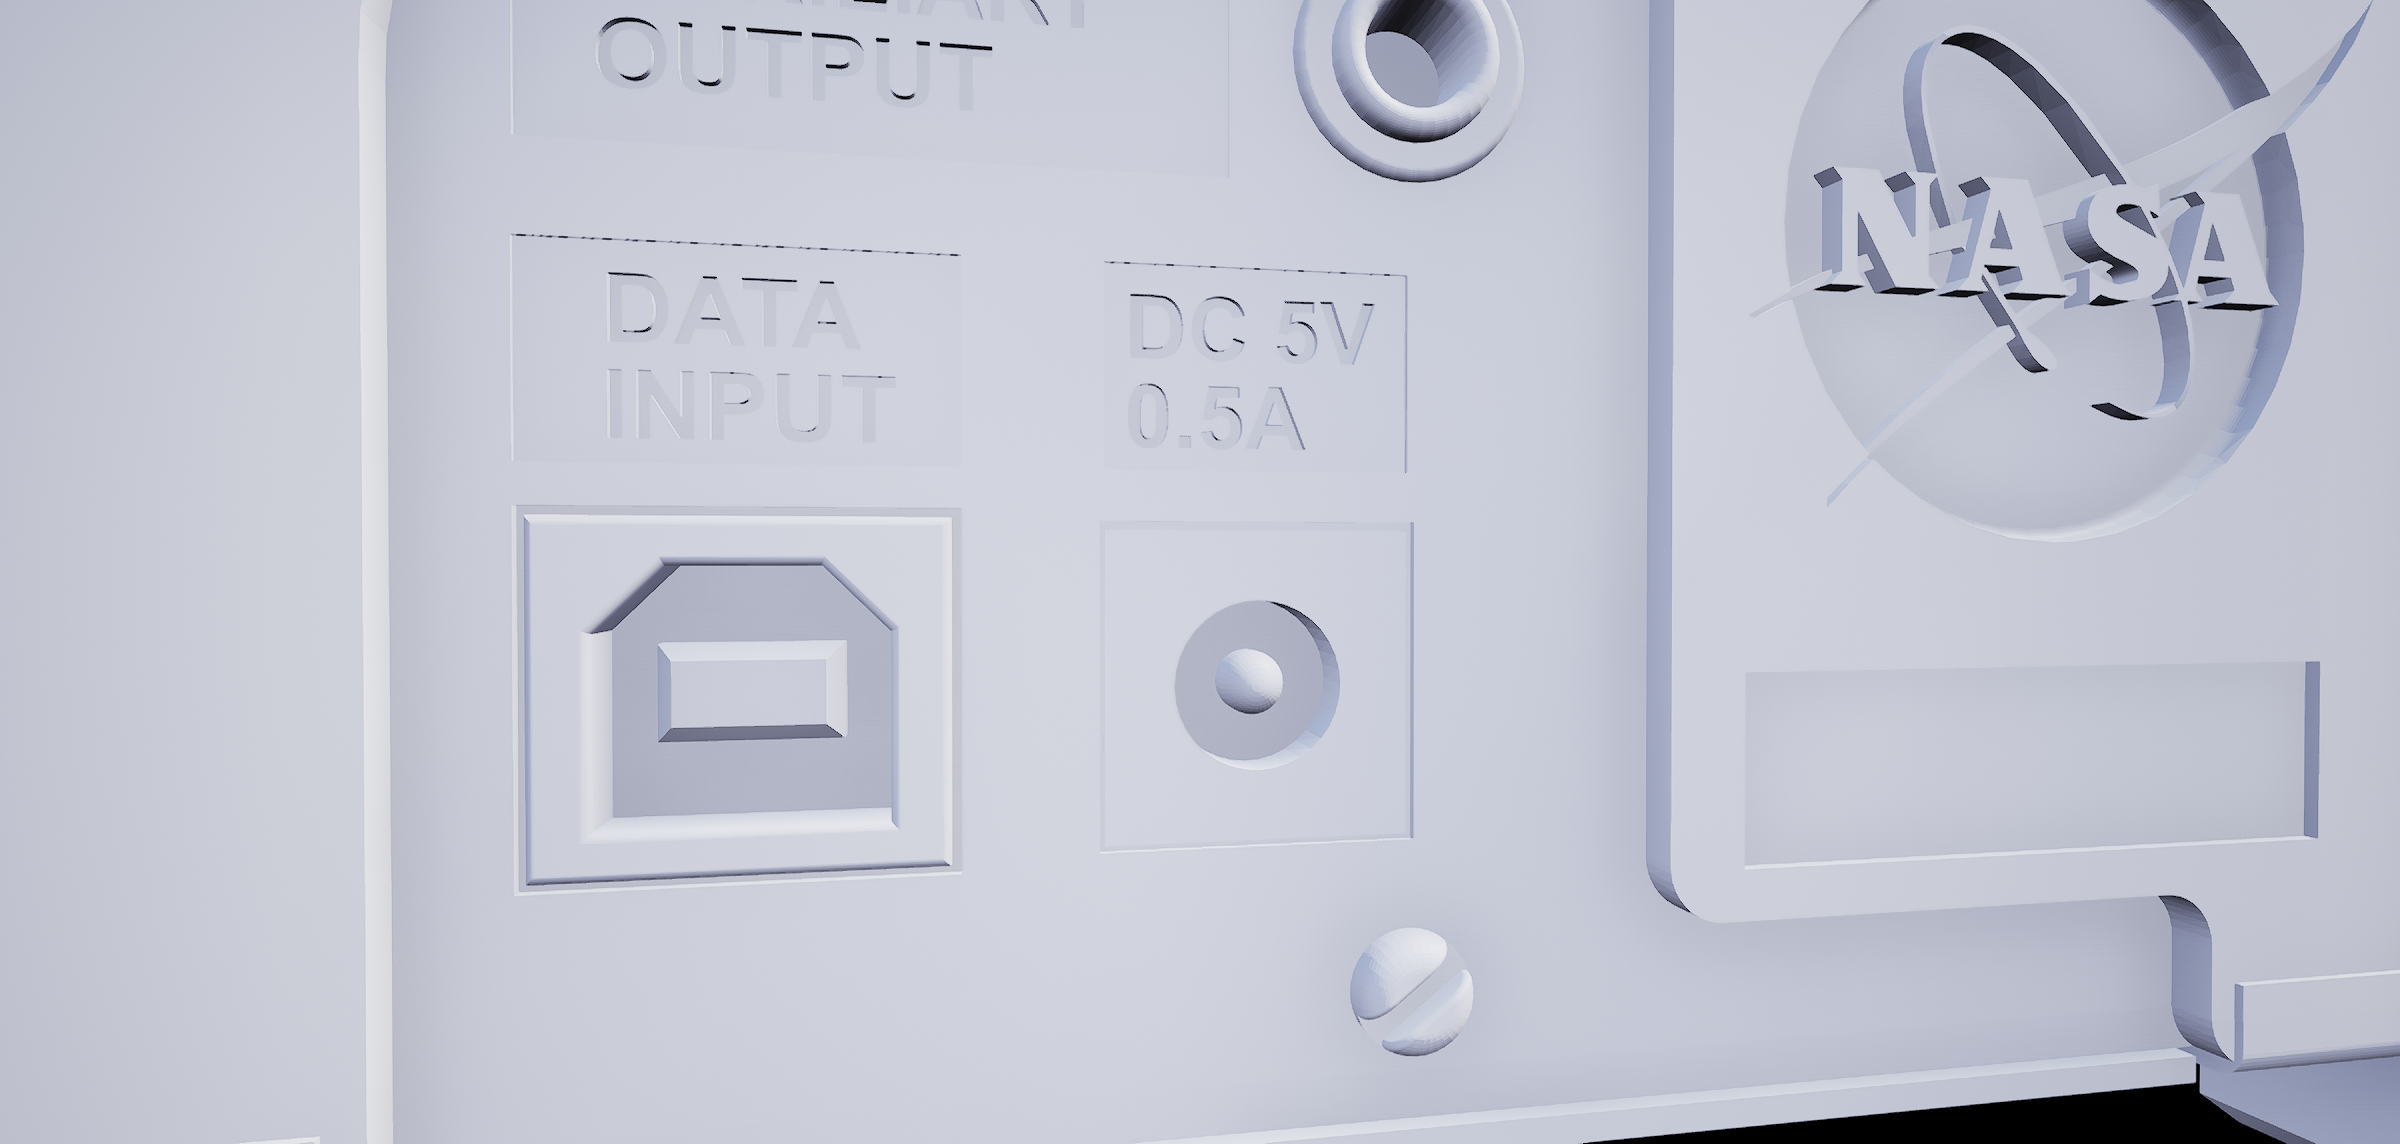aux: (1293, 2, 1554, 188)
dc: (1171, 579, 1362, 776)
usb: (585, 559, 909, 839)
